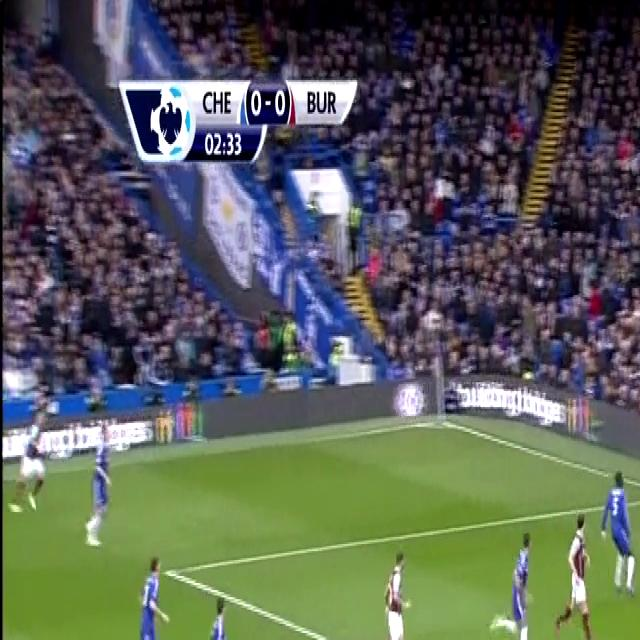soccer-player: (595, 462, 640, 606), (8, 391, 52, 531), (491, 517, 537, 640), (553, 510, 596, 640), (86, 417, 118, 565), (368, 538, 413, 640), (134, 544, 171, 640), (202, 590, 240, 640)
